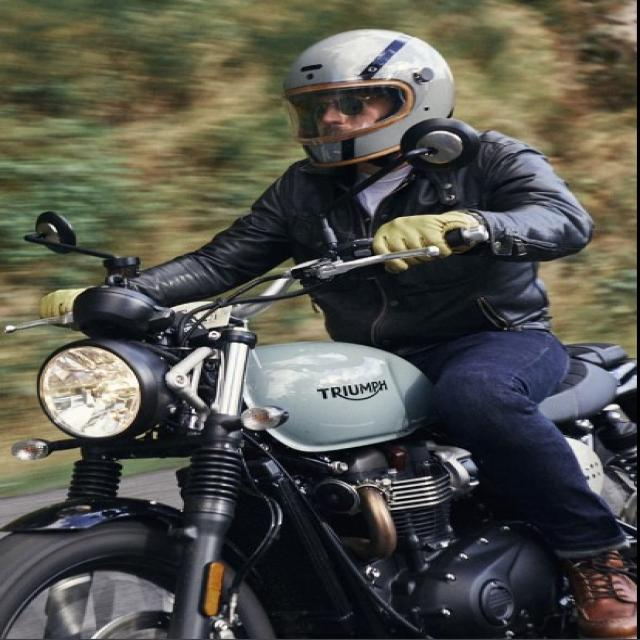With Helmet: (11, 11, 640, 633)
